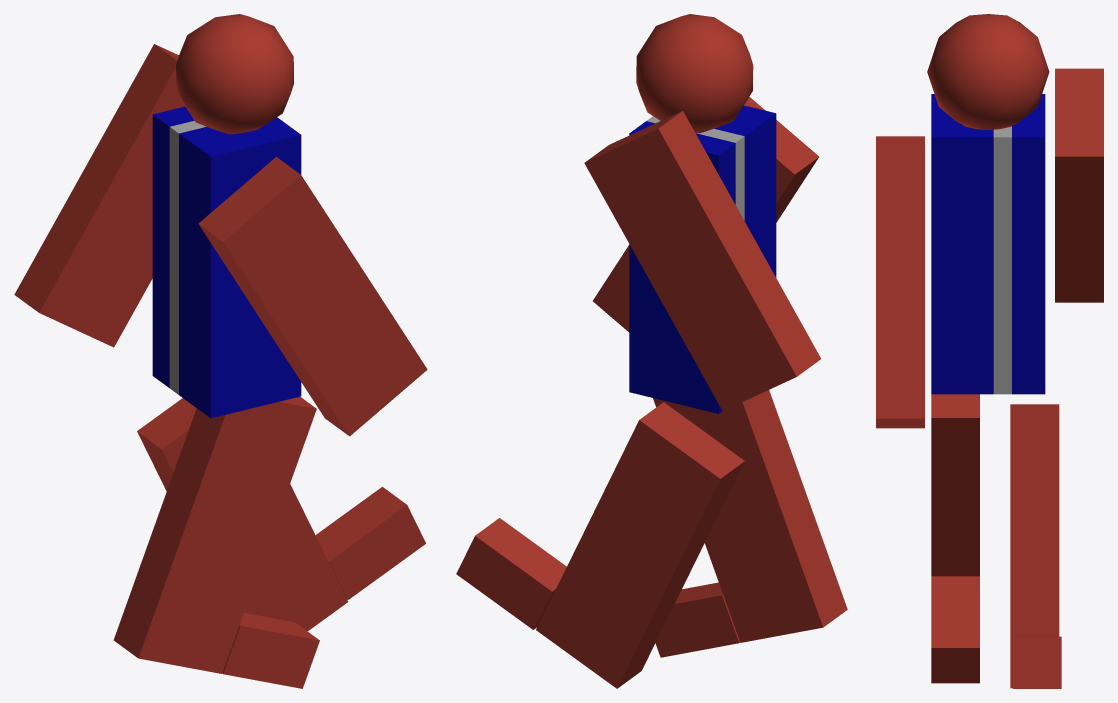
The model's file is player_000003.obj.
3 renders of one model, left to right at view 1: azimuth 30°, elevation 25°; view 2: azimuth 150°, elevation 25°; view 3: azimuth 270°, elevation 25°, orthographic.
Parts seen in each view (by area): view 1: Cube.001, Cube, Cube.005, Cube.006, Icosphere, Cube.002, Cube.004, Cube.003; view 2: Cube.006, Cube.002, Cube.001, Cube, Icosphere, Cube.004, Cube.003, Cube.005; view 3: Cube, Cube.005, Cube.002, Cube.006, Icosphere, Cube.001, Cube.003, Cube.004.
Part boxes in pixels (box(x1,y1,x2,y2)): Cube.001: box(113, 396, 316, 673); Cube: box(152, 106, 301, 418); Cube.005: box(198, 157, 427, 436); Cube.006: box(14, 44, 184, 347); Icosphere: box(176, 14, 293, 134); Cube.002: box(137, 398, 347, 631); Cube.004: box(315, 487, 425, 599); Cube.003: box(222, 613, 319, 688); Cube.006: box(584, 111, 820, 410); Cube.002: box(536, 402, 744, 688); Cube.001: box(653, 390, 847, 642); Cube: box(629, 105, 776, 413); Icosphere: box(636, 14, 753, 133); Cube.004: box(456, 518, 566, 629); Cube.003: box(655, 582, 740, 657); Cube.005: box(593, 97, 819, 332); Cube: box(931, 94, 1045, 394); Cube.005: box(876, 136, 924, 428); Cube.002: box(1010, 404, 1059, 688); Cube.006: box(1055, 68, 1103, 302); Icosphere: box(927, 14, 1049, 129); Cube.001: box(931, 394, 979, 576); Cube.003: box(931, 576, 979, 683); Cube.004: box(1013, 636, 1061, 688).
Size of the model in its own units: 1.67 by 2.87 by 0.9137.
